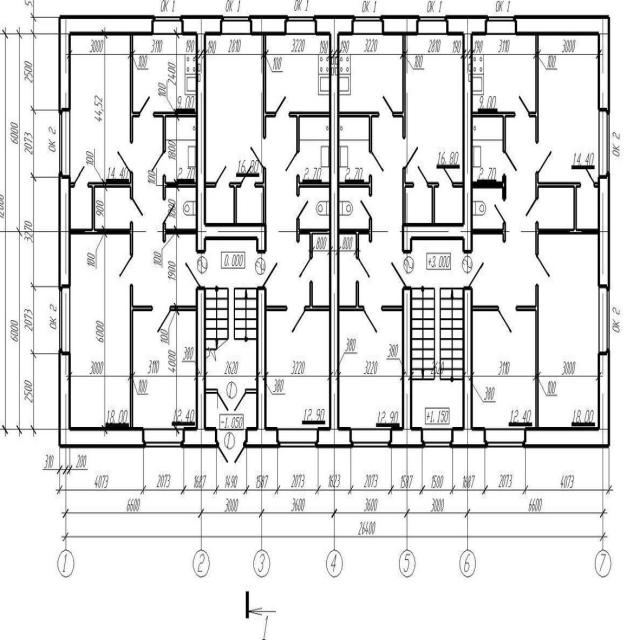Bathrooms: (166, 117, 195, 182), (300, 117, 329, 181), (340, 118, 369, 182), (473, 117, 502, 181), (300, 188, 329, 228), (166, 188, 195, 228), (473, 189, 502, 228), (340, 188, 368, 228)
Corridors: (473, 117, 535, 306), (134, 117, 195, 305), (359, 117, 402, 305), (267, 117, 309, 305), (412, 240, 463, 284), (206, 240, 256, 284), (206, 394, 256, 427), (539, 188, 573, 228), (96, 188, 129, 227), (313, 236, 329, 305), (340, 236, 355, 305), (206, 187, 233, 222), (436, 188, 462, 222), (406, 188, 431, 222), (238, 188, 262, 223), (577, 187, 597, 228), (71, 188, 91, 227)
Doors: (216, 427, 246, 466), (463, 251, 487, 288), (389, 252, 412, 288), (183, 252, 206, 287), (257, 252, 279, 287), (217, 388, 247, 413), (362, 306, 383, 336), (152, 305, 171, 337), (498, 306, 517, 337), (287, 306, 306, 336), (535, 142, 554, 172), (249, 138, 266, 170), (403, 138, 420, 169), (116, 142, 132, 174), (117, 255, 133, 286), (535, 255, 552, 284), (369, 151, 386, 175), (356, 258, 372, 282), (283, 152, 299, 176), (139, 92, 154, 117), (515, 92, 530, 117), (503, 150, 518, 175), (378, 93, 394, 116), (162, 199, 177, 223), (130, 198, 145, 222), (275, 93, 290, 117), (524, 197, 538, 222), (298, 258, 313, 281), (150, 152, 165, 175), (215, 164, 230, 187), (414, 164, 429, 187), (438, 164, 453, 187), (74, 163, 88, 187), (241, 163, 255, 187), (358, 195, 372, 218), (297, 196, 311, 219), (493, 200, 506, 224), (581, 166, 595, 187)
LBwalls: (179, 14, 267, 254), (402, 15, 488, 254), (313, 14, 355, 448), (58, 15, 156, 115), (513, 15, 610, 116), (522, 348, 610, 448), (58, 349, 146, 448), (180, 286, 220, 448), (450, 286, 489, 448), (243, 286, 281, 448), (388, 286, 425, 448), (598, 169, 611, 291), (58, 171, 71, 291), (248, 15, 289, 36), (380, 15, 420, 36)
Offices: (71, 234, 130, 426), (539, 235, 598, 427), (71, 36, 130, 182), (539, 36, 597, 182), (206, 36, 263, 182), (406, 35, 462, 181), (339, 311, 402, 428), (266, 312, 329, 427), (133, 311, 195, 427), (473, 311, 535, 427), (266, 36, 329, 111), (339, 36, 402, 111), (133, 37, 195, 112), (473, 36, 535, 111)
Stairs: (412, 284, 462, 427), (206, 284, 256, 388)
Walls: (535, 171, 599, 257), (71, 170, 134, 255), (515, 284, 539, 427), (130, 283, 153, 428), (473, 111, 516, 153), (153, 111, 196, 153), (339, 111, 380, 153), (288, 111, 329, 153), (339, 217, 373, 259), (296, 218, 330, 260), (393, 35, 406, 139), (263, 36, 276, 140), (129, 36, 140, 144), (529, 36, 539, 144), (473, 173, 507, 203), (162, 174, 196, 201), (339, 174, 372, 199), (339, 280, 365, 311), (296, 173, 329, 197), (304, 280, 329, 311), (254, 167, 267, 224), (473, 222, 506, 244), (162, 222, 196, 243), (402, 166, 414, 224), (228, 181, 242, 224), (427, 182, 439, 223), (473, 305, 499, 311), (170, 305, 195, 311), (381, 305, 402, 311), (267, 305, 287, 311), (452, 182, 463, 188), (206, 182, 216, 188), (206, 389, 218, 394), (246, 388, 256, 394), (70, 182, 75, 188), (593, 182, 598, 188)
Windows: (143, 428, 183, 448), (278, 428, 318, 447), (351, 428, 391, 447), (598, 286, 609, 353), (59, 110, 70, 176), (598, 110, 609, 176), (485, 428, 525, 446), (60, 288, 70, 352), (153, 16, 182, 35), (222, 16, 251, 35), (286, 16, 315, 35), (354, 16, 382, 35), (419, 16, 447, 35), (487, 16, 515, 35), (423, 429, 451, 447)
